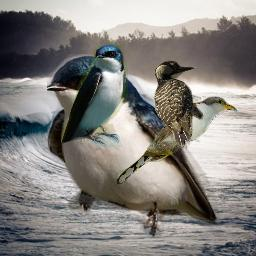Cuckoo: (114, 95, 239, 185)
Swallow: (47, 54, 221, 239), (61, 43, 128, 148)
Woodpecker: (154, 60, 205, 149)
